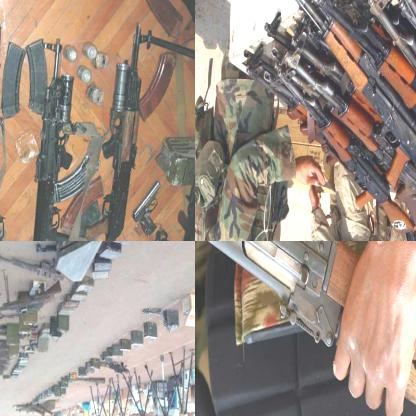rifle: (195, 241, 415, 415), (282, 0, 415, 226), (272, 74, 414, 237), (307, 0, 415, 206), (83, 26, 146, 240), (30, 57, 90, 240), (159, 26, 194, 240), (0, 17, 21, 240), (0, 276, 64, 316)
